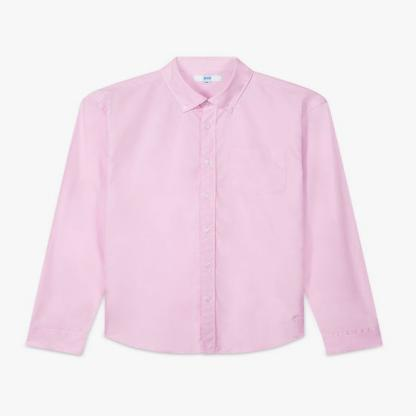dress: (27, 49, 386, 359)
